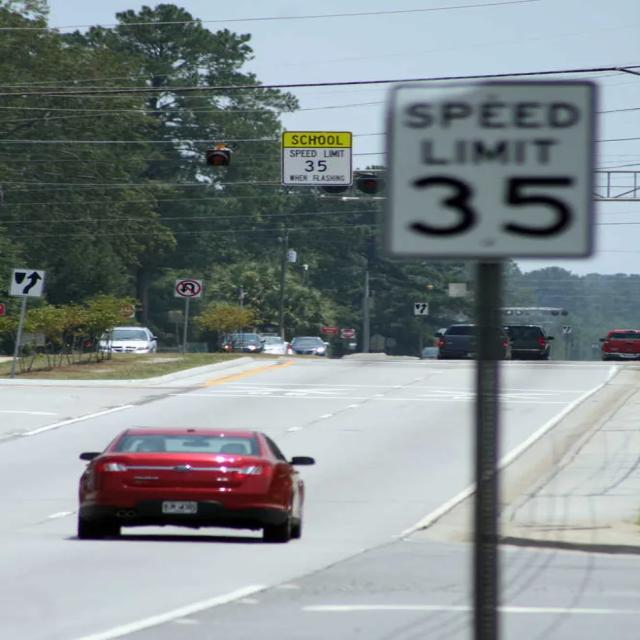Speed Limit Signs: (384, 77, 600, 260)
